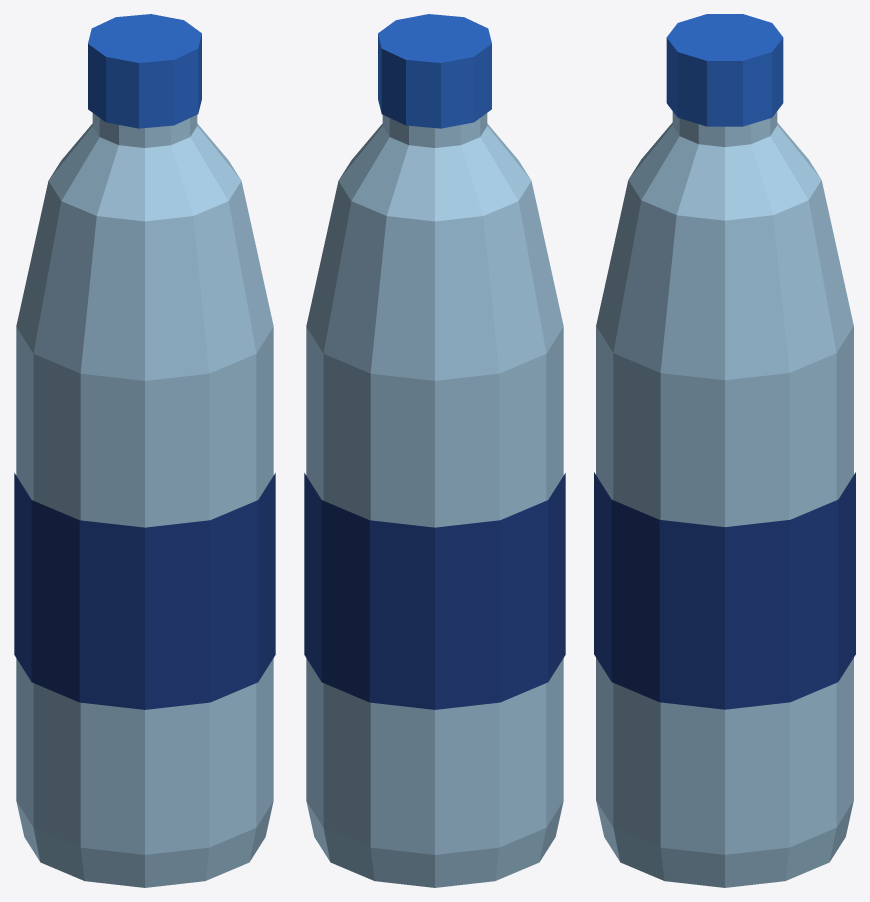
File: water.glb
3 renders of one model, left to right at view 1: azimuth 30°, elevation 25°; view 2: azimuth 150°, elevation 25°; view 3: azimuth 270°, elevation 25°, orthographic.
Parts seen in each view (by area): view 1: water; view 2: water; view 3: water.
Boxes of the visible parts, x1,y1,x2,y2 form: water: (14,14,275,887); water: (304,14,565,887); water: (594,14,855,887).
Size of the model in its own units: 0.065 by 0.219 by 0.065.
